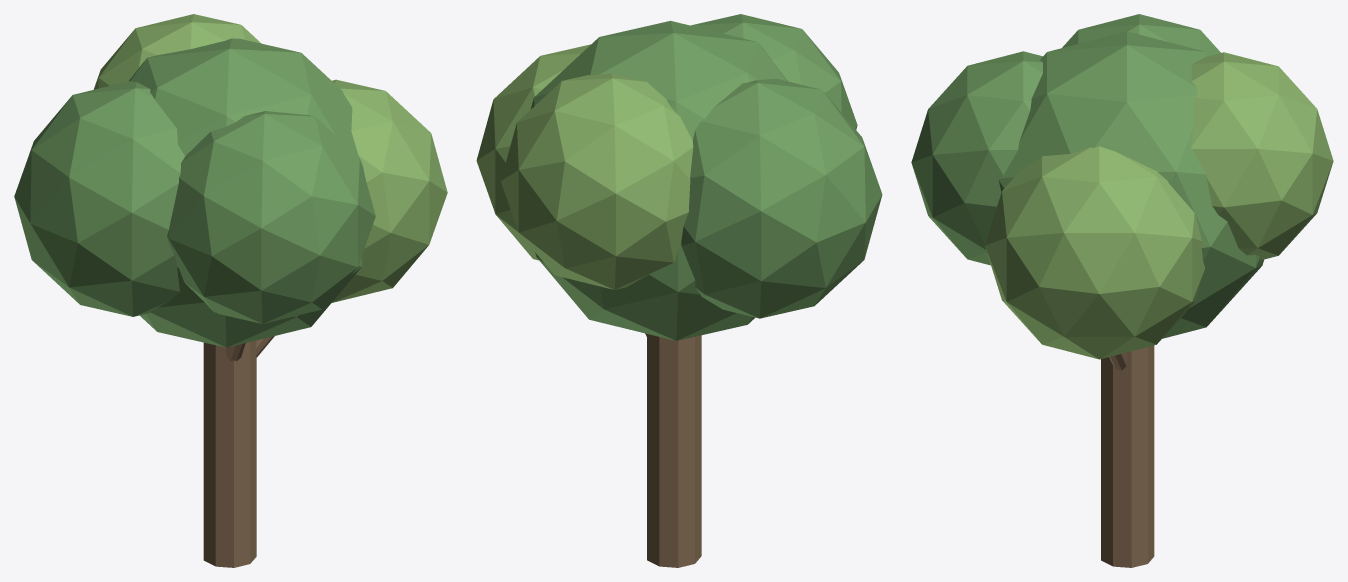
File: tree.glb
3 renders of one model, left to right at view 1: azimuth 30°, elevation 25°; view 2: azimuth 150°, elevation 25°; view 3: azimuth 270°, elevation 25°, orthographic. The views are drawn at different scales.
Parts seen in each view (by area): view 1: foliage_4, foliage_2, foliage_0, foliage_1, trunk, foliage_3; view 2: foliage_2, foliage_3, foliage_0, trunk, foliage_1, foliage_4; view 3: foliage_1, foliage_0, foliage_3, foliage_4, trunk, foliage_2.
Part boxes in pixels (bbox=[...]): foliage_4: bbox=[167, 111, 375, 323]; foliage_2: bbox=[14, 81, 184, 316]; foliage_0: bbox=[129, 38, 364, 347]; foliage_1: bbox=[332, 79, 447, 302]; trunk: bbox=[203, 340, 256, 567]; foliage_3: bbox=[93, 14, 261, 89]; foliage_2: bbox=[681, 79, 882, 318]; foliage_3: bbox=[500, 73, 693, 289]; foliage_0: bbox=[530, 20, 787, 340]; trunk: bbox=[647, 334, 701, 567]; foliage_1: bbox=[476, 44, 590, 260]; foliage_4: bbox=[691, 14, 857, 129]; foliage_1: bbox=[985, 146, 1205, 359]; foliage_0: bbox=[998, 31, 1263, 338]; foliage_3: bbox=[1191, 52, 1333, 260]; foliage_4: bbox=[911, 51, 1042, 265]; trunk: bbox=[1101, 345, 1154, 567]; foliage_2: bbox=[1062, 14, 1220, 55].
Size of the model in its own units: 3.57 by 4.53 by 3.39.
